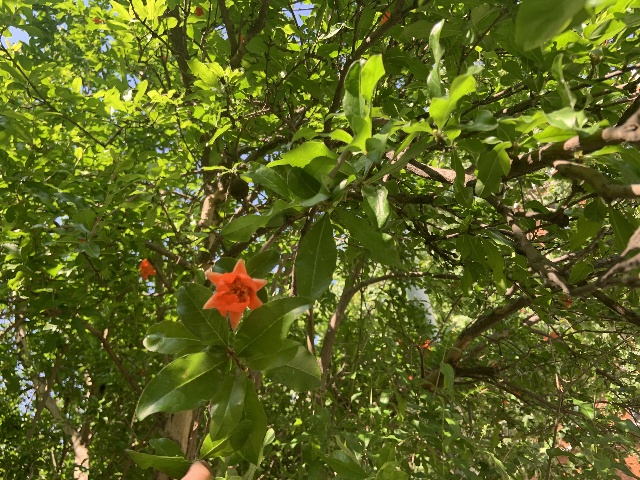flower: (202, 259, 267, 330), (139, 259, 156, 280)
